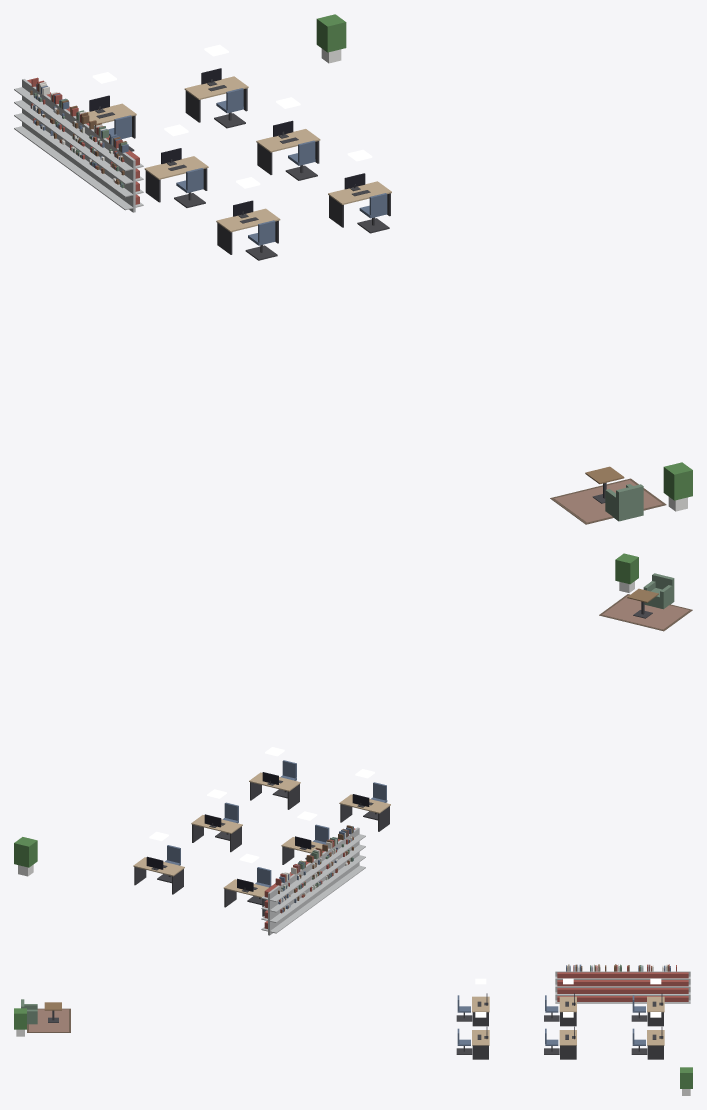
The model's file is fine-s1.glb.
3 views of the same model, one above another, from view 1: azimuth 30°, elevation 25°; view 2: azimuth 150°, elevation 25°; view 3: azimuth 270°, elevation 25° (orthographic). The views are drawn at different scales.
Parts seen in each view (by area): view 1: soft-s1, shelving.005, shelving.001, office-desk-real.002, office-desk-real.001, office-desk-real.003, office-desk-real.004, office-desk-real.005, shelving.002, shelving.003, shelving.004, plant-medium.001 (+8 smaller); view 2: soft-s1, shelving.001, office-desk-real.005, office-desk-real.004, office-desk-real.001, office-desk-real.003, shelving.002, shelving.004, shelving.005, sofa.000, shelving.003, plant-medium.001 (+3 smaller); view 3: soft-s1, shelving.001, shelving.004, shelving.003, shelving.005, shelving.002, office-desk-real.001, office-desk-real.005, office-desk-real.003, office-desk-real.000, office-desk-real.004, office-desk-real.002 (+10 smaller).
Boxes of the visible parts, x1,y1,x2,y2 form: soft-s1: (30,77,666,524); shelving.005: (93,137,143,212); shelving.001: (14,79,54,152); office-desk-real.002: (144,148,208,202); office-desk-real.001: (184,68,248,122); office-desk-real.003: (256,120,320,174); office-desk-real.004: (216,200,280,254); office-desk-real.005: (328,173,391,227); shelving.002: (34,94,75,166); shelving.003: (54,109,93,180); shelving.004: (73,124,113,195); plant-medium.001: (316,14,346,63); soft-s1: (275,594,692,913); shelving.001: (261,874,302,935); office-desk-real.005: (249,772,300,809); office-desk-real.004: (339,794,390,831); office-desk-real.001: (133,856,184,894); office-desk-real.003: (191,814,242,852); shelving.002: (286,862,318,920); shelving.004: (317,840,350,897); shelving.005: (334,827,365,885); sofa.000: (643,573,674,609); shelving.003: (301,851,334,909); plant-medium.001: (14,837,37,876); soft-s1: (27,964,676,1032); shelving.001: (651,971,690,1003); shelving.004: (579,971,618,1003); shelving.003: (603,971,642,1003); shelving.005: (555,971,594,1003); shelving.002: (627,971,666,1003); office-desk-real.001: (647,1027,664,1059); office-desk-real.005: (472,1027,489,1059); office-desk-real.003: (559,1026,576,1059); office-desk-real.000: (647,993,664,1026); office-desk-real.004: (472,993,489,1026); office-desk-real.002: (559,993,576,1026).
Bounding box in the file's own units: 10.41 × 1.93 × 31.04.
